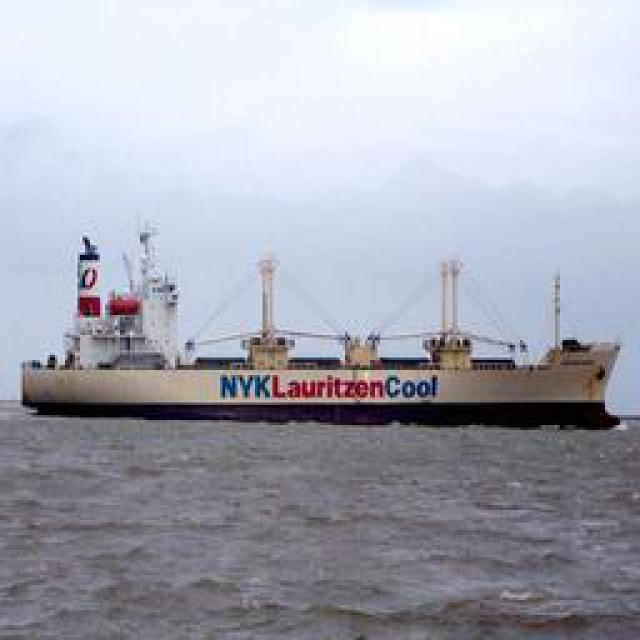Ship: (24, 230, 624, 425)
